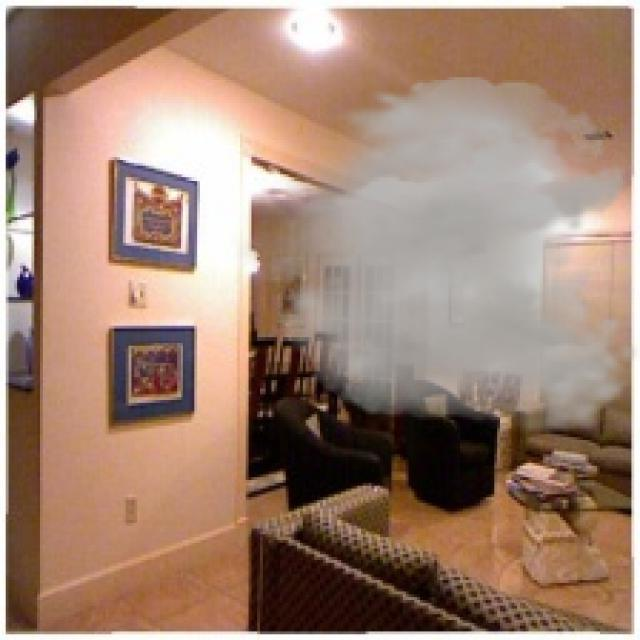Smoke: (228, 77, 638, 437)
